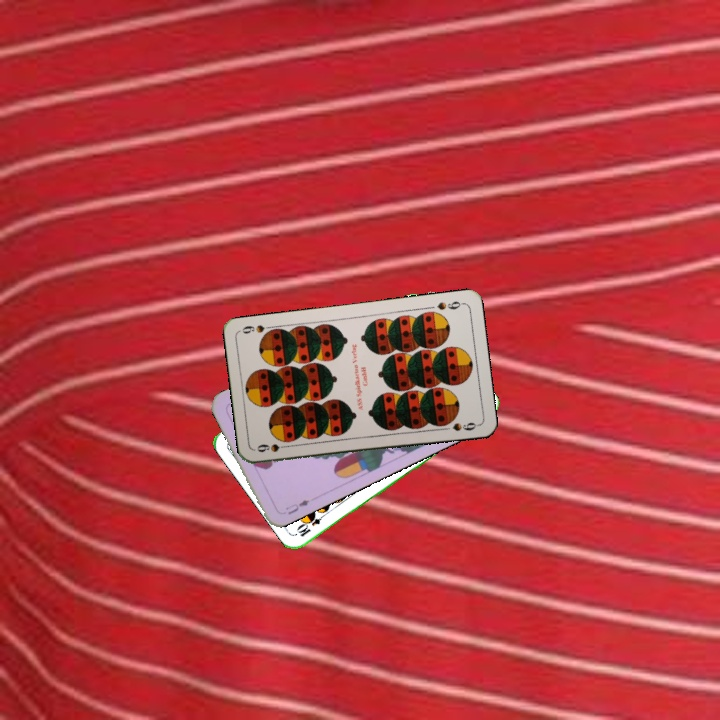E10: (294, 508, 329, 539)
EU: (281, 496, 312, 517)
S9: (253, 440, 293, 455), (433, 297, 466, 312)
